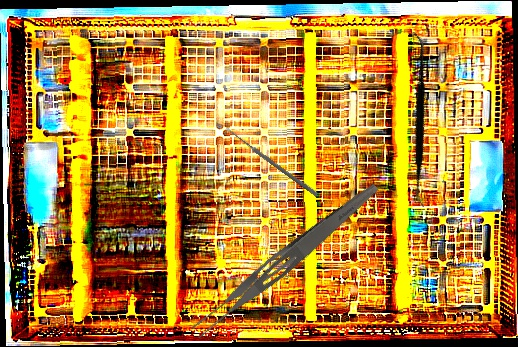Dressing Forceps: (186, 174, 383, 344)
Spatula Surgical: (339, 30, 498, 209)
Surgical Spoon: (224, 126, 319, 197)
